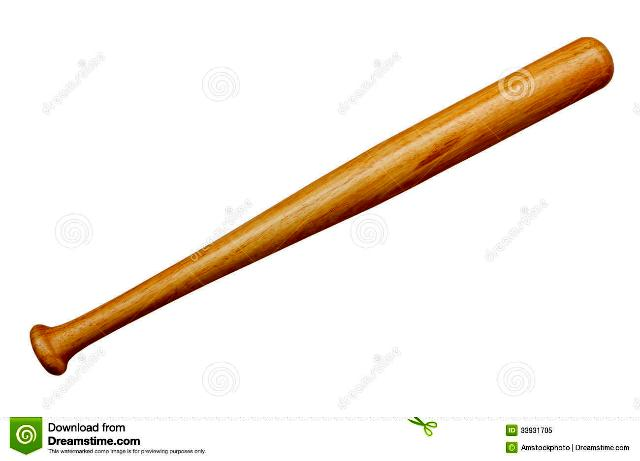baseball bat: (42, 4, 614, 374)
